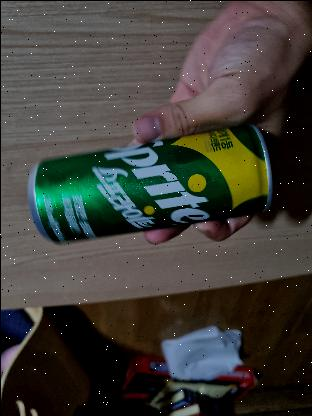Can: (32, 140, 266, 238)
